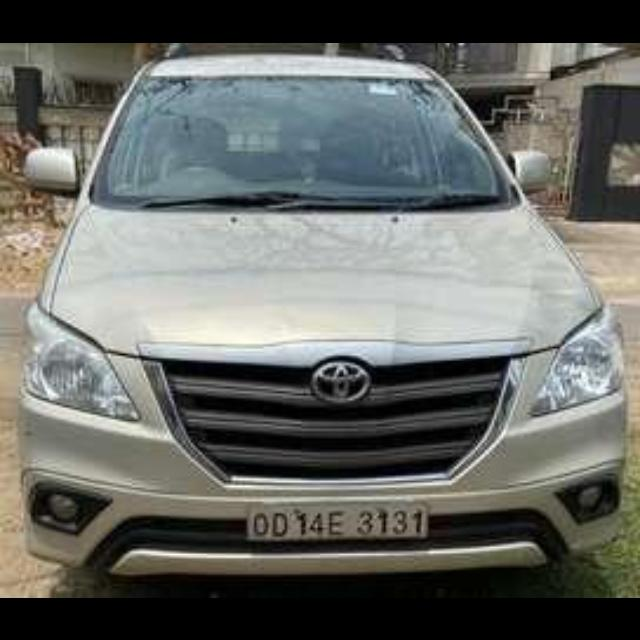number-plate: (243, 499, 435, 542)
vehicles: (18, 54, 613, 589)
